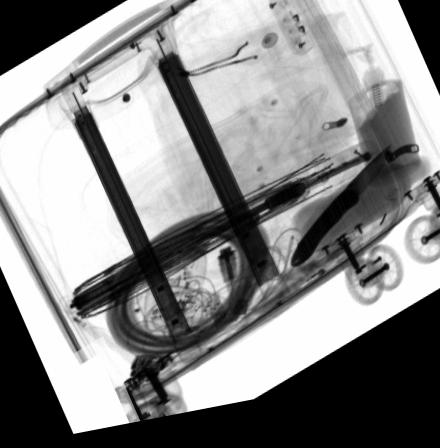Knife: (289, 160, 390, 279)
